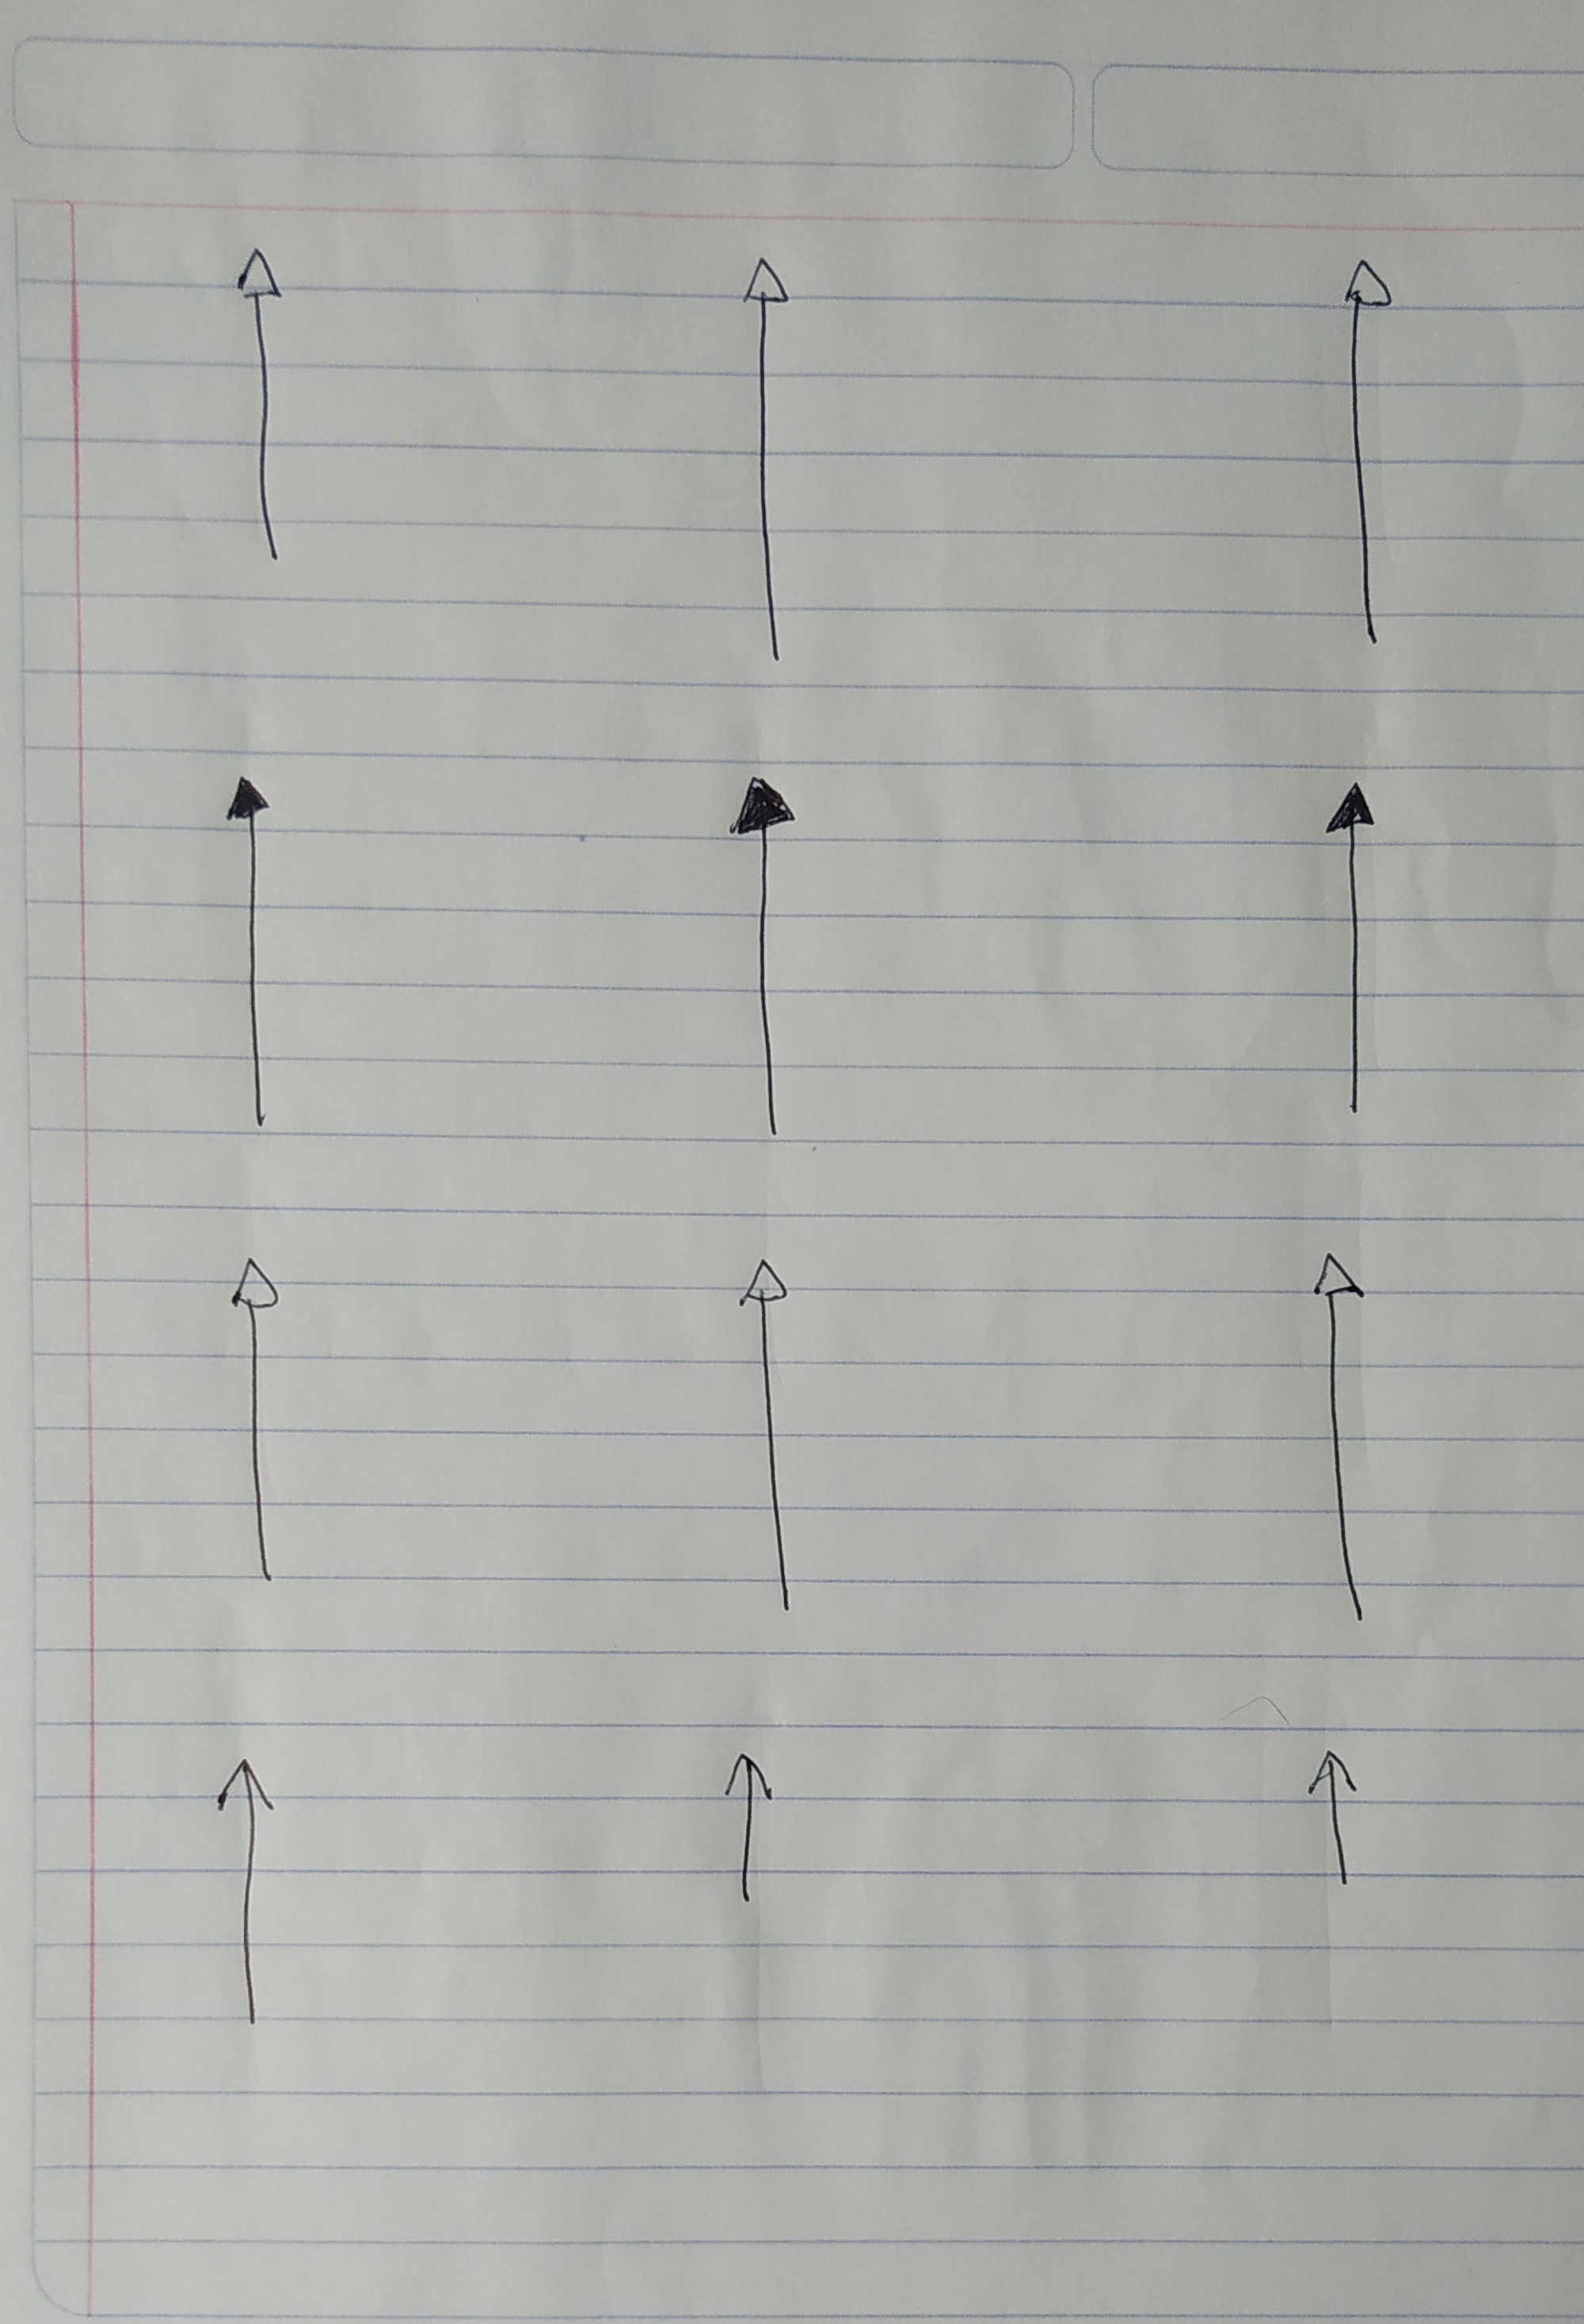arrow_line_up: (1328, 253, 1414, 660), (736, 249, 818, 657), (731, 1254, 818, 1621), (726, 770, 800, 1158), (1305, 1249, 1374, 1641), (223, 1252, 295, 1598), (1321, 773, 1384, 1123), (228, 244, 295, 574), (221, 772, 277, 1141), (212, 1748, 283, 2034), (1300, 1738, 1369, 1891), (720, 1745, 786, 1900)
